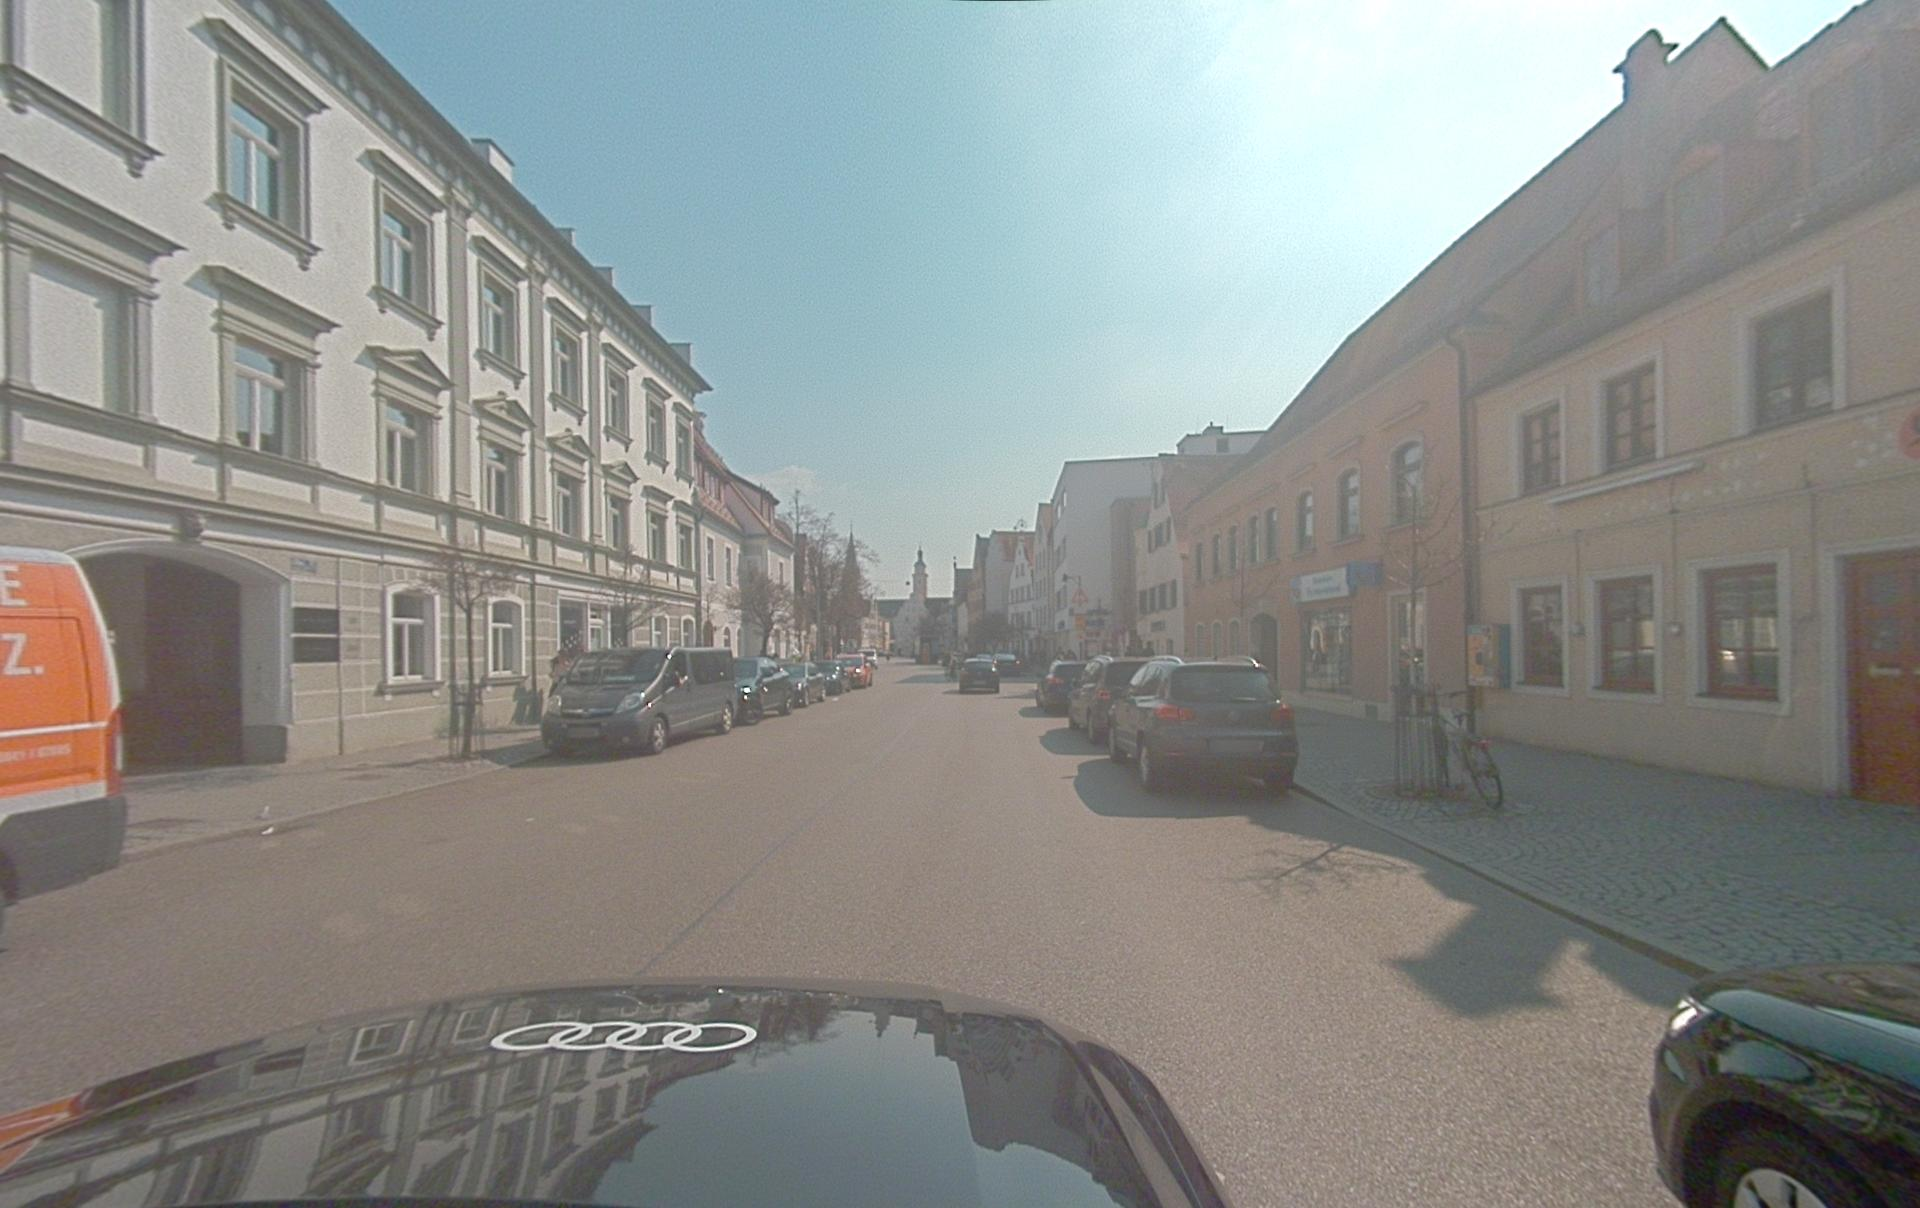car: (1, 977, 1231, 1207), (1649, 959, 1920, 1207), (1107, 657, 1299, 796), (540, 646, 739, 757), (1071, 658, 1146, 745), (733, 657, 794, 724), (1069, 654, 1114, 729), (1035, 660, 1087, 711), (782, 662, 828, 707), (959, 657, 999, 693), (835, 653, 872, 689), (814, 660, 849, 694)
